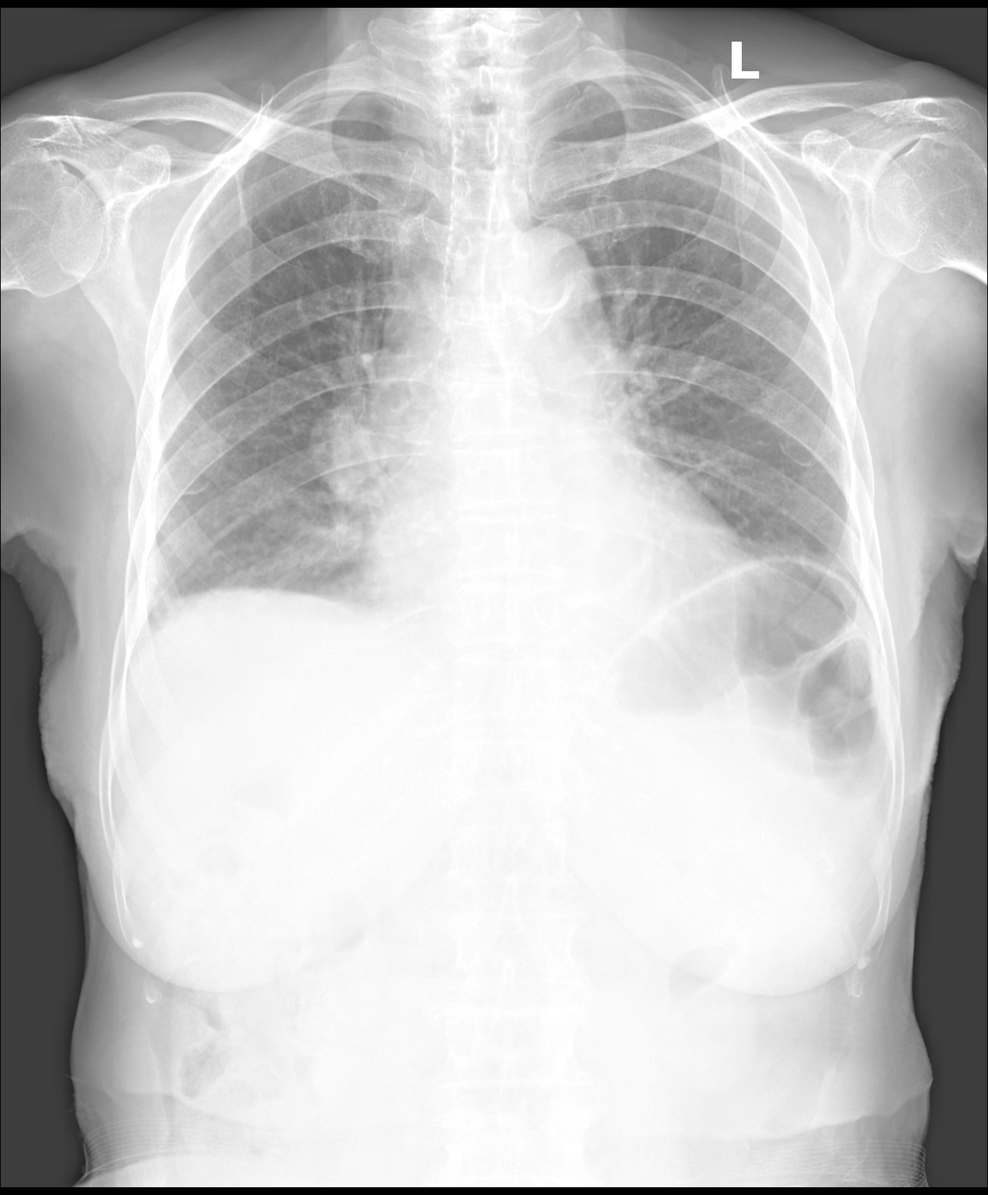Aortic enlargement: (492, 228, 611, 335)
Pleural thickening: (116, 589, 166, 668)
